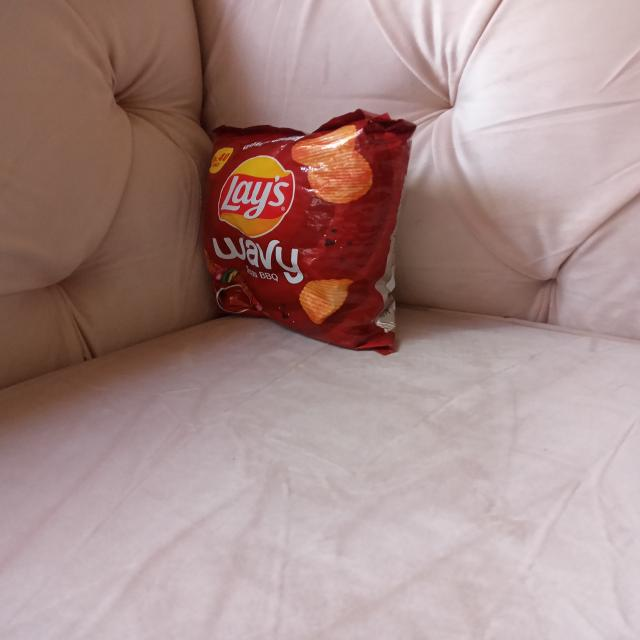Plastic: (188, 106, 424, 363)
